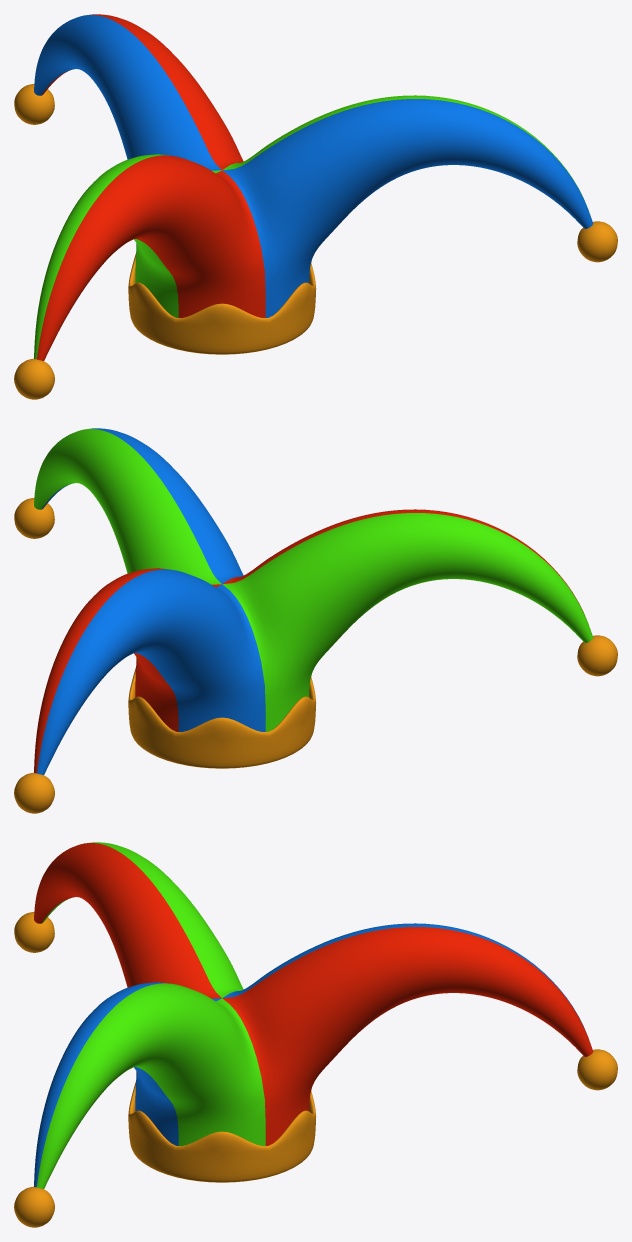
Rendered from hat.gltf.
3 renders of one model, top to bottom at view 1: azimuth 30°, elevation 25°; view 2: azimuth 150°, elevation 25°; view 3: azimuth 270°, elevation 25°, orthographic.
Visible parts, largest first — view 1: NurbsPath.002_2, NurbsPath.001_3, Sphere.002_6, Sphere_4, Sphere.001_5; view 2: NurbsPath.002_2, NurbsPath.001_3, Sphere.001_5, Sphere.002_6, Sphere_4; view 3: NurbsPath.002_2, NurbsPath.001_3, Sphere_4, Sphere.001_5, Sphere.002_6.
Boxes of the visible parts, bbox=[...] form: NurbsPath.002_2: bbox=[34, 14, 593, 360]; NurbsPath.001_3: bbox=[128, 254, 316, 354]; Sphere.002_6: bbox=[14, 358, 54, 399]; Sphere_4: bbox=[577, 221, 617, 262]; Sphere.001_5: bbox=[14, 84, 54, 124]; NurbsPath.002_2: bbox=[34, 428, 593, 774]; NurbsPath.001_3: bbox=[128, 668, 316, 768]; Sphere.001_5: bbox=[14, 772, 54, 813]; Sphere.002_6: bbox=[577, 635, 617, 676]; Sphere_4: bbox=[14, 498, 54, 538]; NurbsPath.002_2: bbox=[34, 842, 593, 1188]; NurbsPath.001_3: bbox=[128, 1082, 316, 1182]; Sphere_4: bbox=[14, 1186, 54, 1227]; Sphere.001_5: bbox=[577, 1049, 617, 1090]; Sphere.002_6: bbox=[14, 912, 54, 952].
Size of the model in its own units: 11.14 by 3.87 by 9.73.
